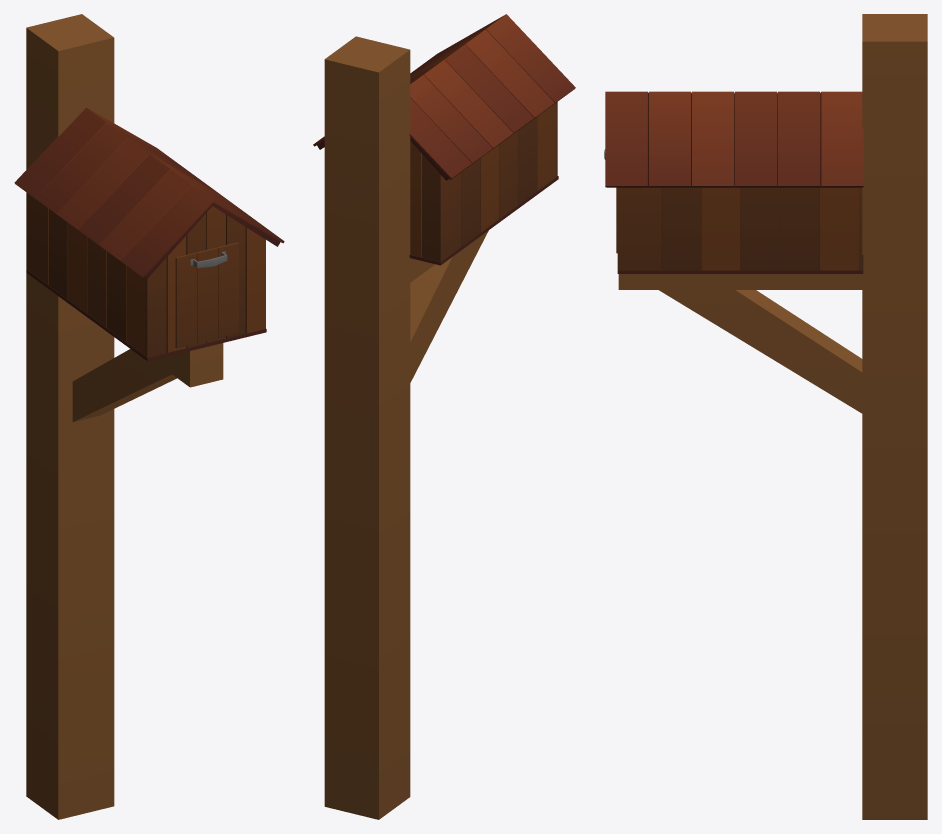
Rendered from Prop_Letterbox_04.obj.
3 renders of one model, left to right at view 1: azimuth 30°, elevation 25°; view 2: azimuth 150°, elevation 25°; view 3: azimuth 270°, elevation 25°, orthographic. The views are drawn at different scales.
Visible parts, largest first — view 1: Prop_Letterbox_04, Prop_Letterbox_Door_04; view 2: Prop_Letterbox_04; view 3: Prop_Letterbox_04.
Boxes of the visible parts, bbox=[...] form: Prop_Letterbox_04: bbox=[14, 14, 284, 819]; Prop_Letterbox_Door_04: bbox=[175, 242, 238, 348]; Prop_Letterbox_04: bbox=[313, 14, 575, 819]; Prop_Letterbox_04: bbox=[605, 14, 927, 819].
Size of the model in its own units: 0.2805 by 1.44 by 0.5434.
Materials: 1 (1 with a texture image).
